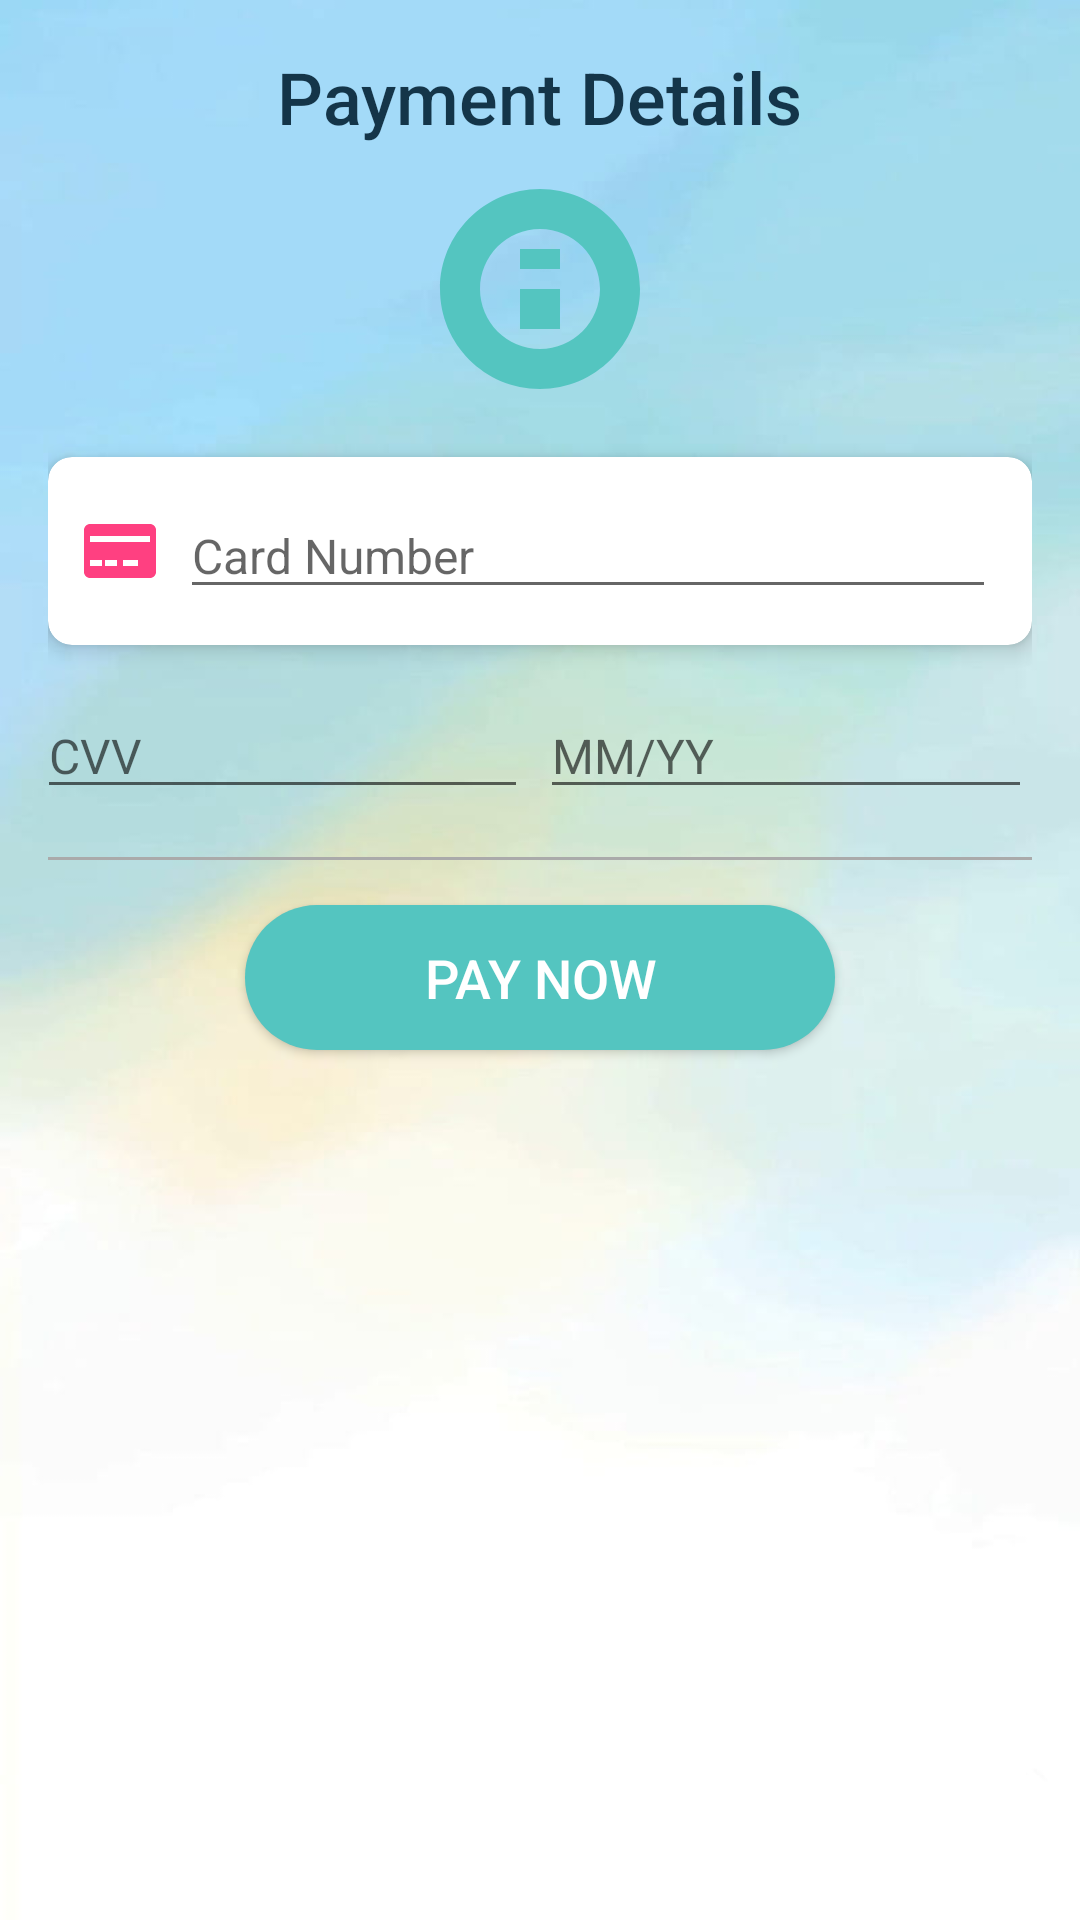

Screen size 1080×1920. Icon name, then its center in pixels as point (x, y):
credit card: point (120, 551)
